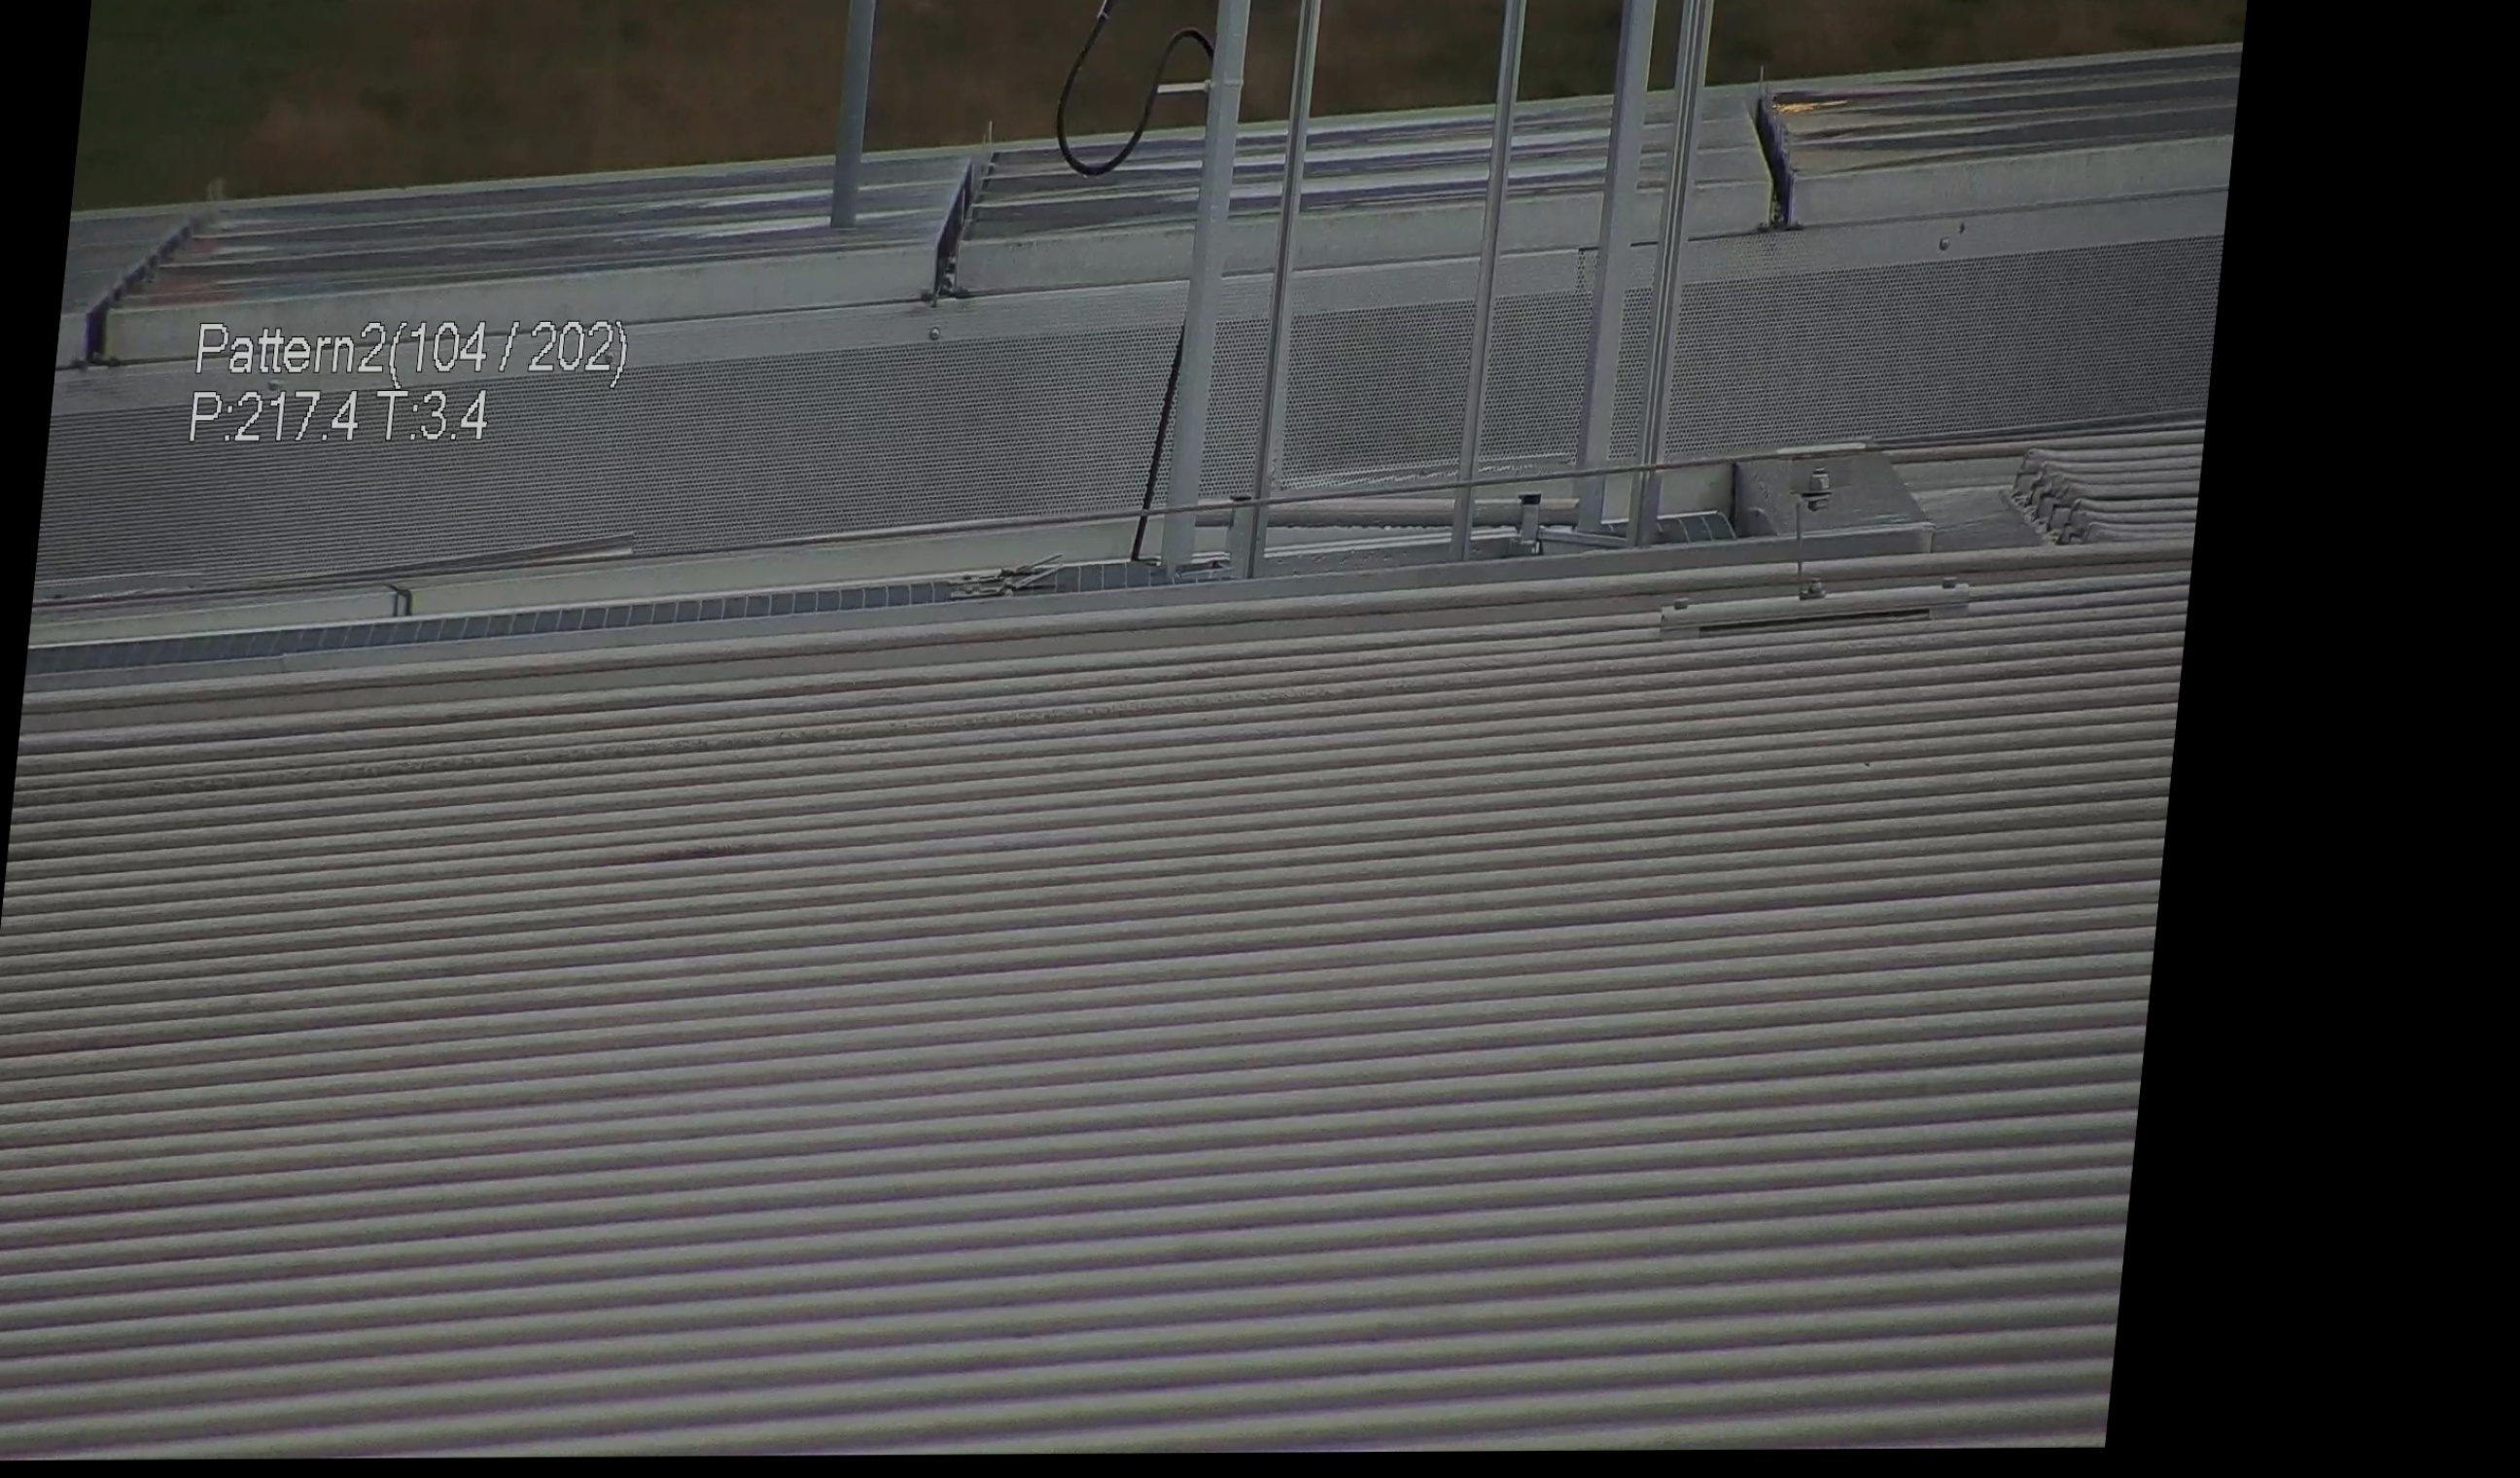Other: (1722, 67, 1838, 236)
